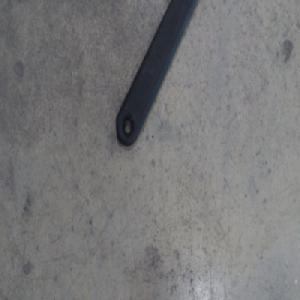AdjustableWrench: (116, 0, 198, 146)
